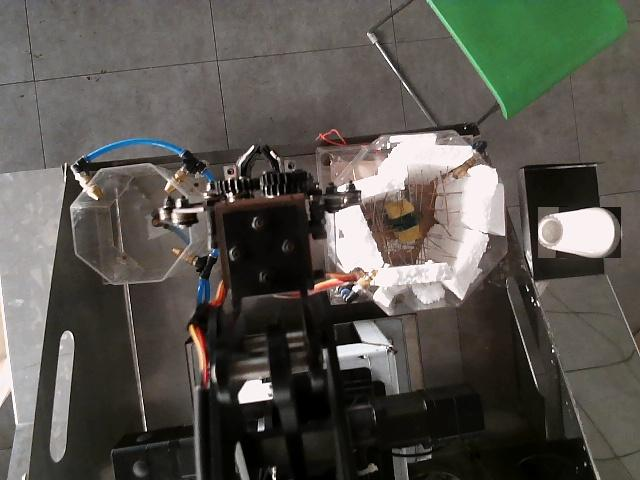cup: (538, 207, 621, 258)
